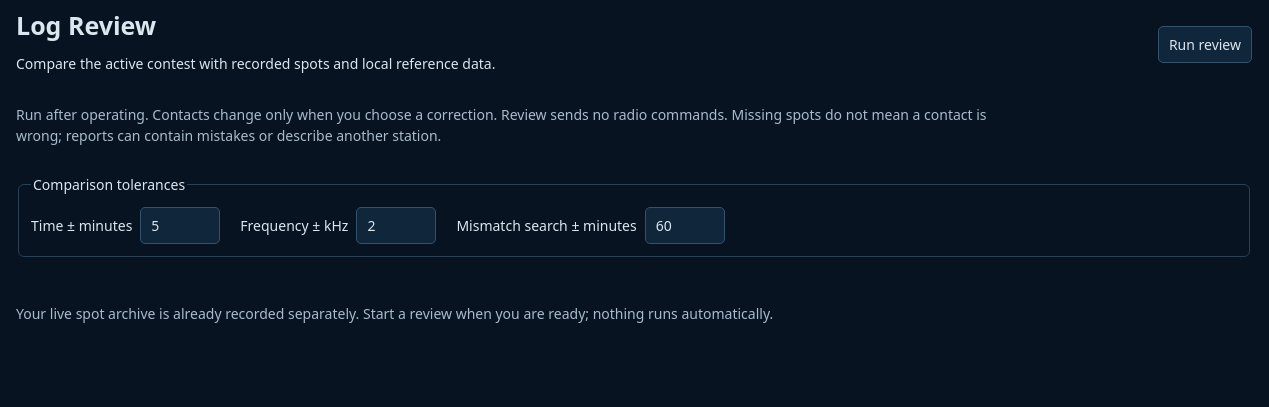
it: Log Review window › keeps all failures inside the review window and allows retry
This screenshot has width=1269, height=407.
Click the button "Run review": [1205, 44] box [1158,26,1252,63]
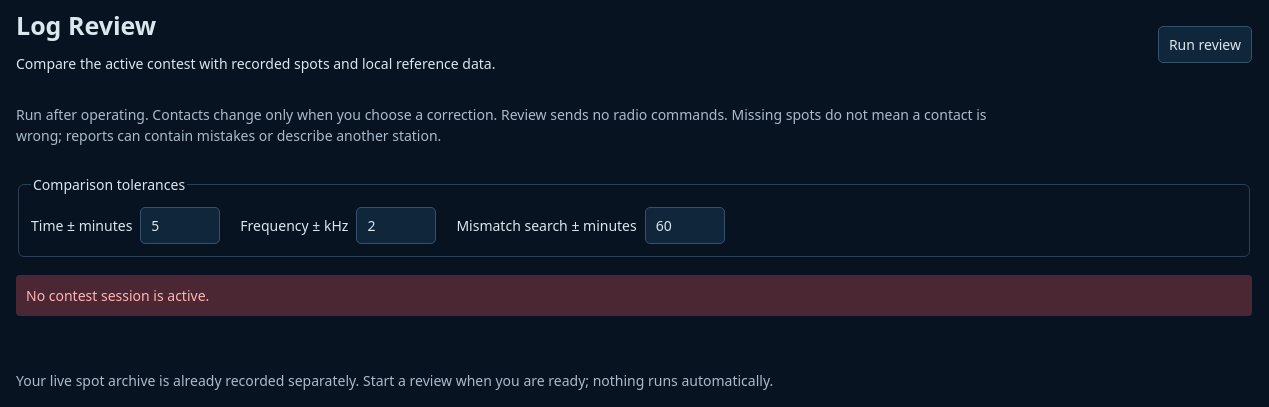
Check: the message shows "No contest session", box [26,286,209,304]
